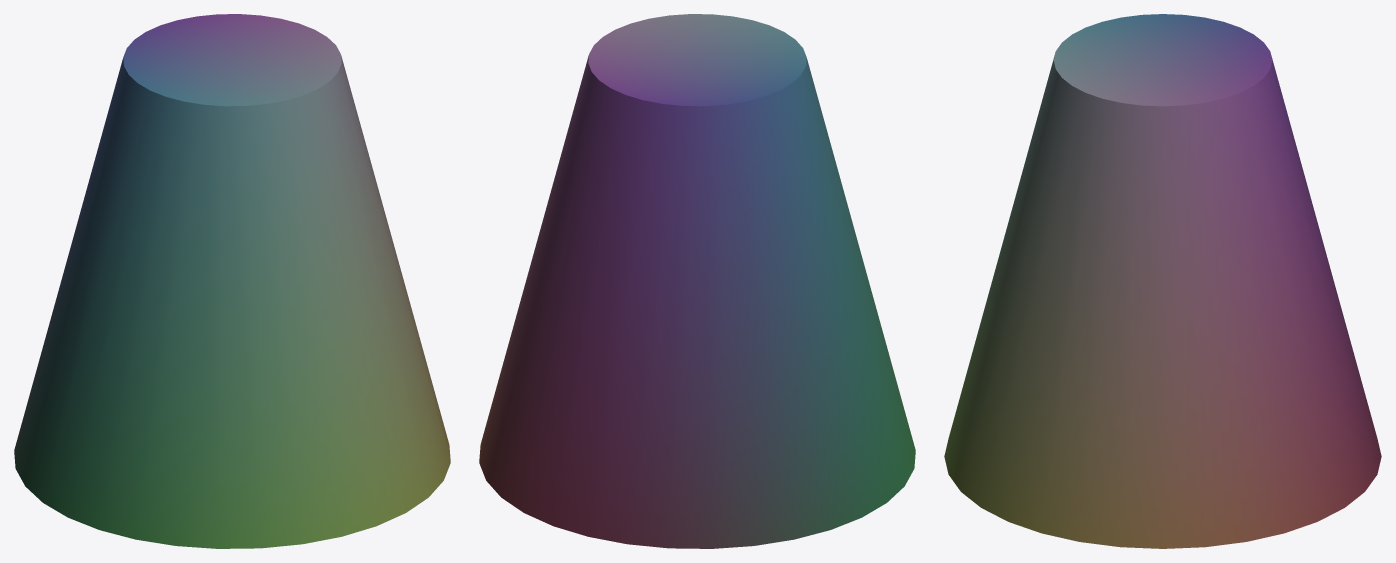
Rendered from SM_ScalableConeFlat.gltf.
The picture shows the model from 3 angles, left to right: view 1: azimuth 30°, elevation 25°; view 2: azimuth 150°, elevation 25°; view 3: azimuth 270°, elevation 25°; orthographic projection.
Visible parts, largest first — view 1: SM_ScalableConeFlat; view 2: SM_ScalableConeFlat; view 3: SM_ScalableConeFlat.
Boxes of the visible parts, x1,y1,x2,y2 form: SM_ScalableConeFlat: [14, 14, 450, 548]; SM_ScalableConeFlat: [479, 14, 915, 548]; SM_ScalableConeFlat: [944, 14, 1381, 548].
Size of the model in its own units: 0.3 by 0.3 by 0.3.
